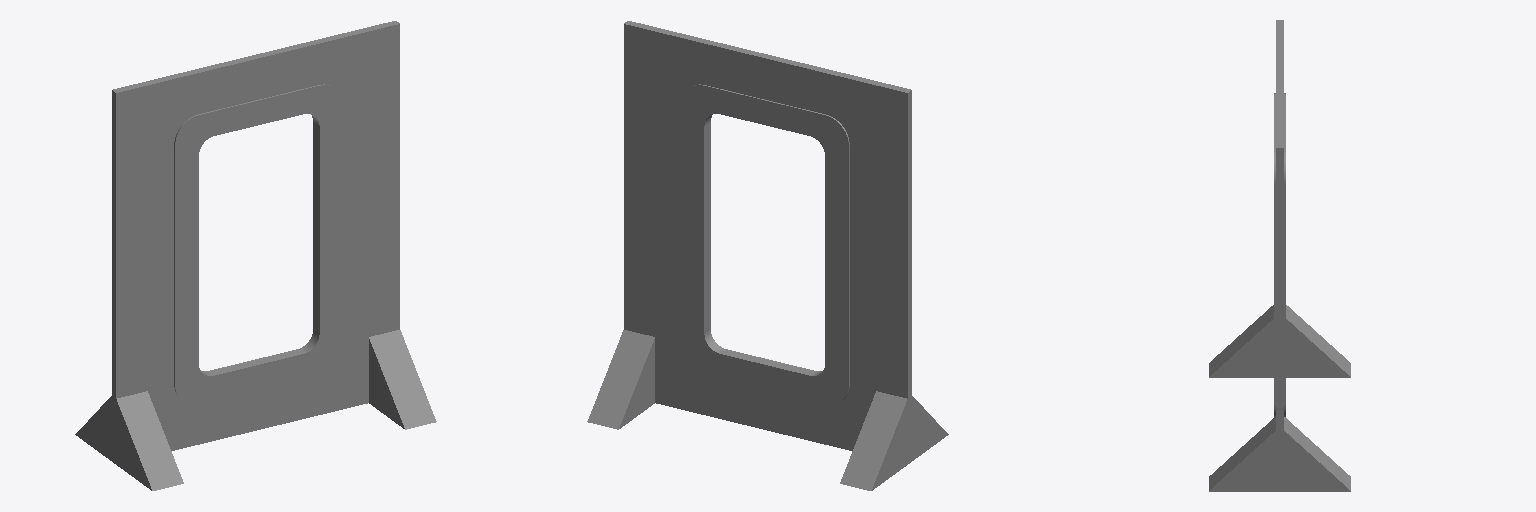
The robot description file, URDF, robot "navy_door":
<?xml version="0.0" ?>
<robot name="navy_door">
  <link name="door">
  <contact>
      <lateral_friction value="1"/>
  </contact>
    <inertial>
      <origin rpy="0 0 0" xyz="0 0 0"/>
       <mass value="500."/>
       <inertia ixx="0" ixy="0" ixz="0" iyy="0" iyz="0" izz="0"/>
    </inertial>
    <visual>
      <origin rpy="0 0 0" xyz="0 0 0"/>
      <geometry>
        <mesh filename="navy_door_765x1450.stl" scale="1 1 1"/>
      </geometry>
       <material name="grey">
        <color rgba="0.6 0.6 0.6 1"/>
      </material>
    </visual>
    <collision>
      <origin rpy="0 0 0" xyz="0 0 0.2"/>
      <geometry>
         <box size="1.4 0.1 0.4"/>
      </geometry>
    </collision>
  </link>
</robot>

--- What the picture shows (computed from the rendered views, not written in the file) ---
The picture shows the robot from 3 angles, left to right: view 1: azimuth 30°, elevation 25°; view 2: azimuth 150°, elevation 25°; view 3: azimuth 270°, elevation 25°; orthographic projection.
Robot: navy_door — 1 links, 0 joints (none); root link door; default pose: every joint at zero.
Visible links, largest first — view 1: door; view 2: door; view 3: door.
Boxes of the visible links, x1=… form: door: x1=75, y1=21, x2=436, y2=490; door: x1=587, y1=21, x2=948, y2=490; door: x1=1209, y1=20, x2=1350, y2=491.
Bounding box of the posed robot: 1.8 × 0.85 × 2.25 m (x, y, z).
1 mesh visuals loaded from 1 distinct referenced files (1 binary STL).